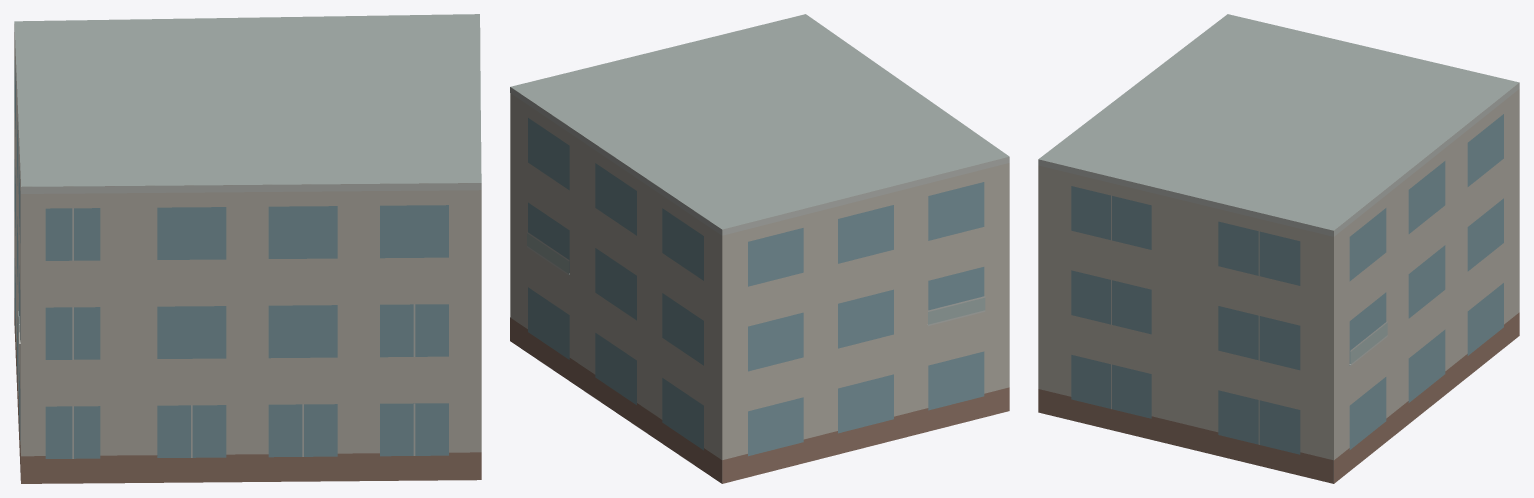
File: survey-upis-32851985.glb
3 views of the same model, side by side, from view 1: azimuth 30°, elevation 25°; view 2: azimuth 150°, elevation 25°; view 3: azimuth 270°, elevation 25° (orthographic). The views are drawn at different scales.
Visible parts, largest first — view 1: survey-upis-32851985.tmp; view 2: survey-upis-32851985.tmp; view 3: survey-upis-32851985.tmp.
Part boxes in pixels (x1=…): survey-upis-32851985.tmp: x1=14, y1=14, x2=481, y2=483; survey-upis-32851985.tmp: x1=510, y1=14, x2=1009, y2=483; survey-upis-32851985.tmp: x1=1038, y1=14, x2=1519, y2=483.
Size of the model in its own units: 18.46 by 10.05 by 17.33.
